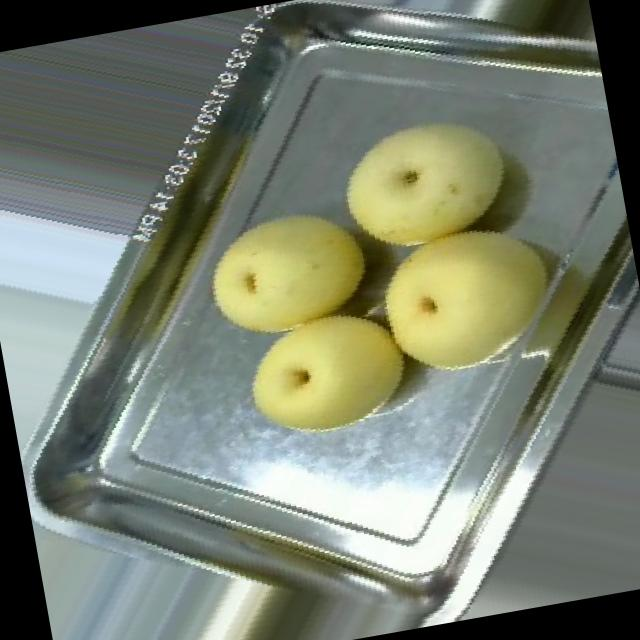Fruit: (302, 76, 554, 307), (344, 189, 589, 412), (178, 177, 396, 359), (224, 290, 430, 460)
